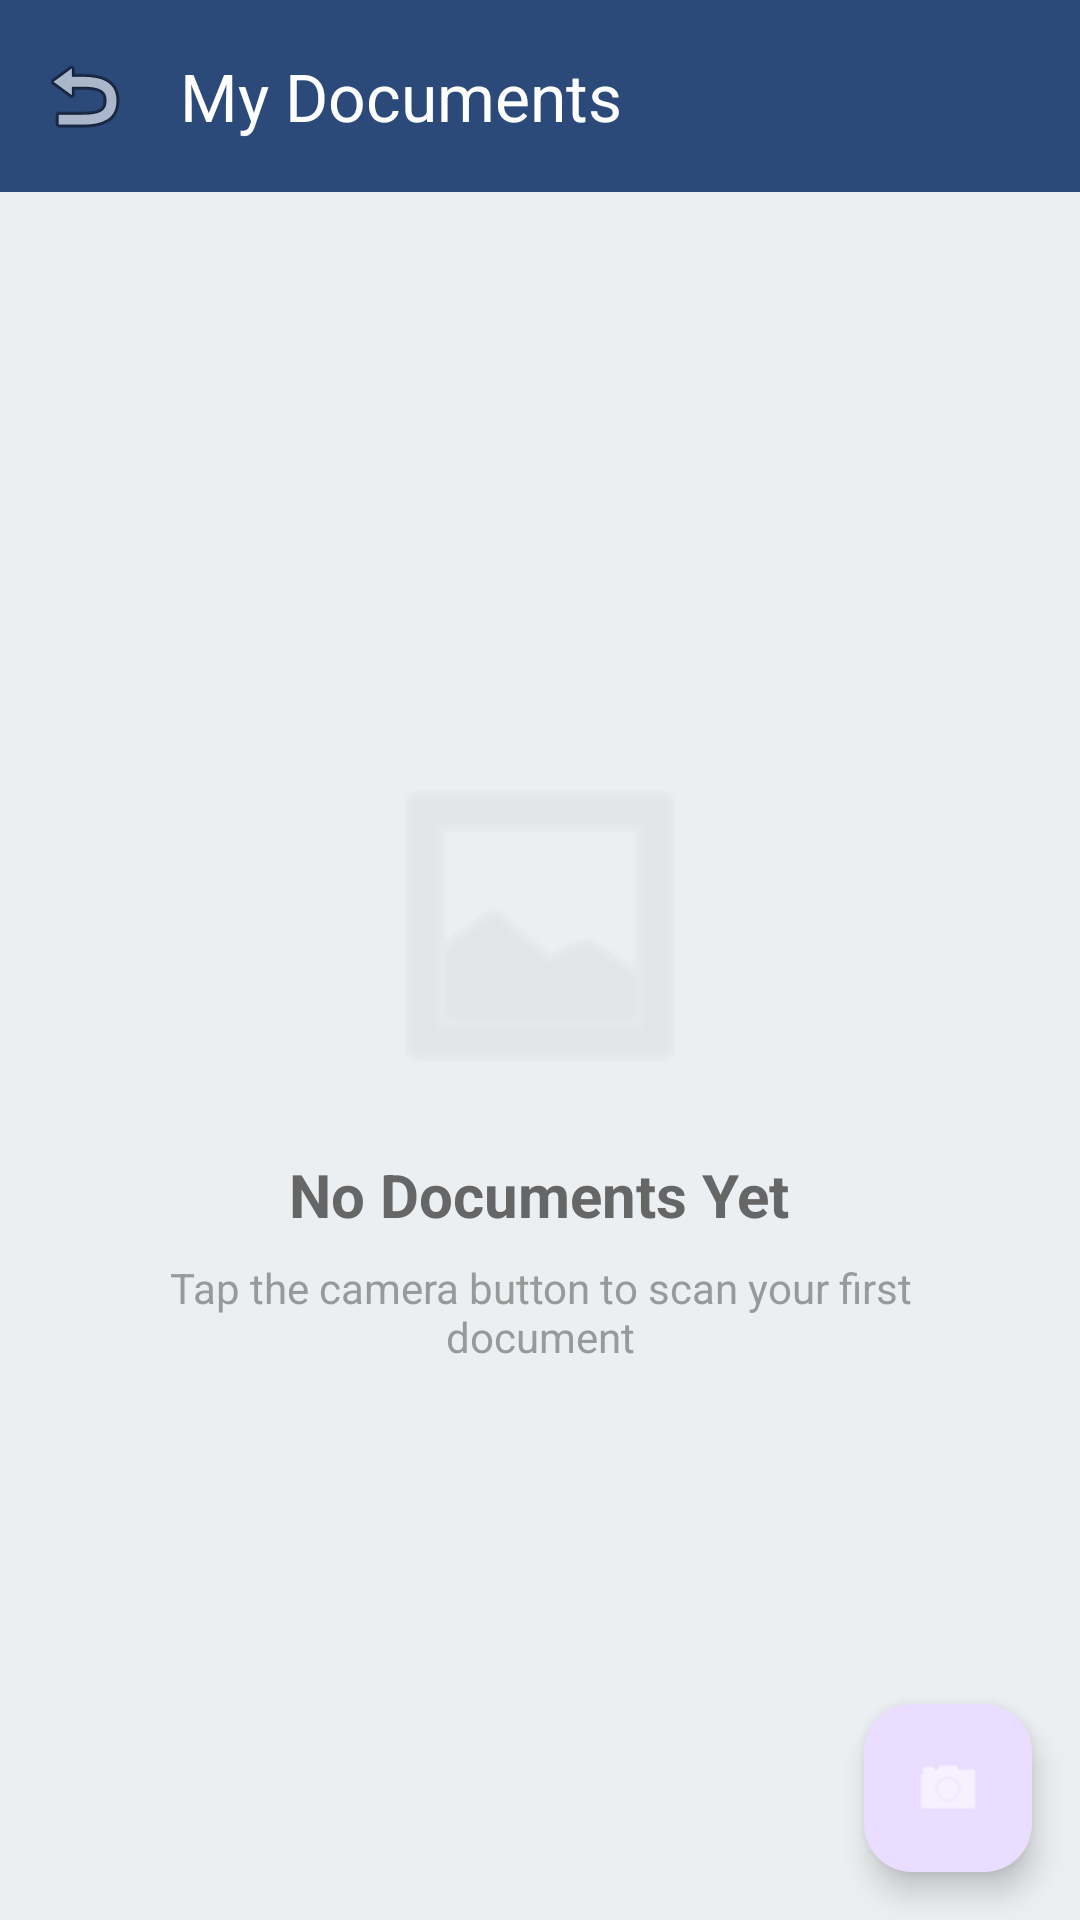

Icons on this 1080w x 1920h Android screen, each with its box as (left=x1, top=y1, right=x2, bottom=y2):
Scan Document: (left=864, top=1704, right=1032, bottom=1872)
